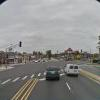Crosswalk: (4, 70, 42, 89)
